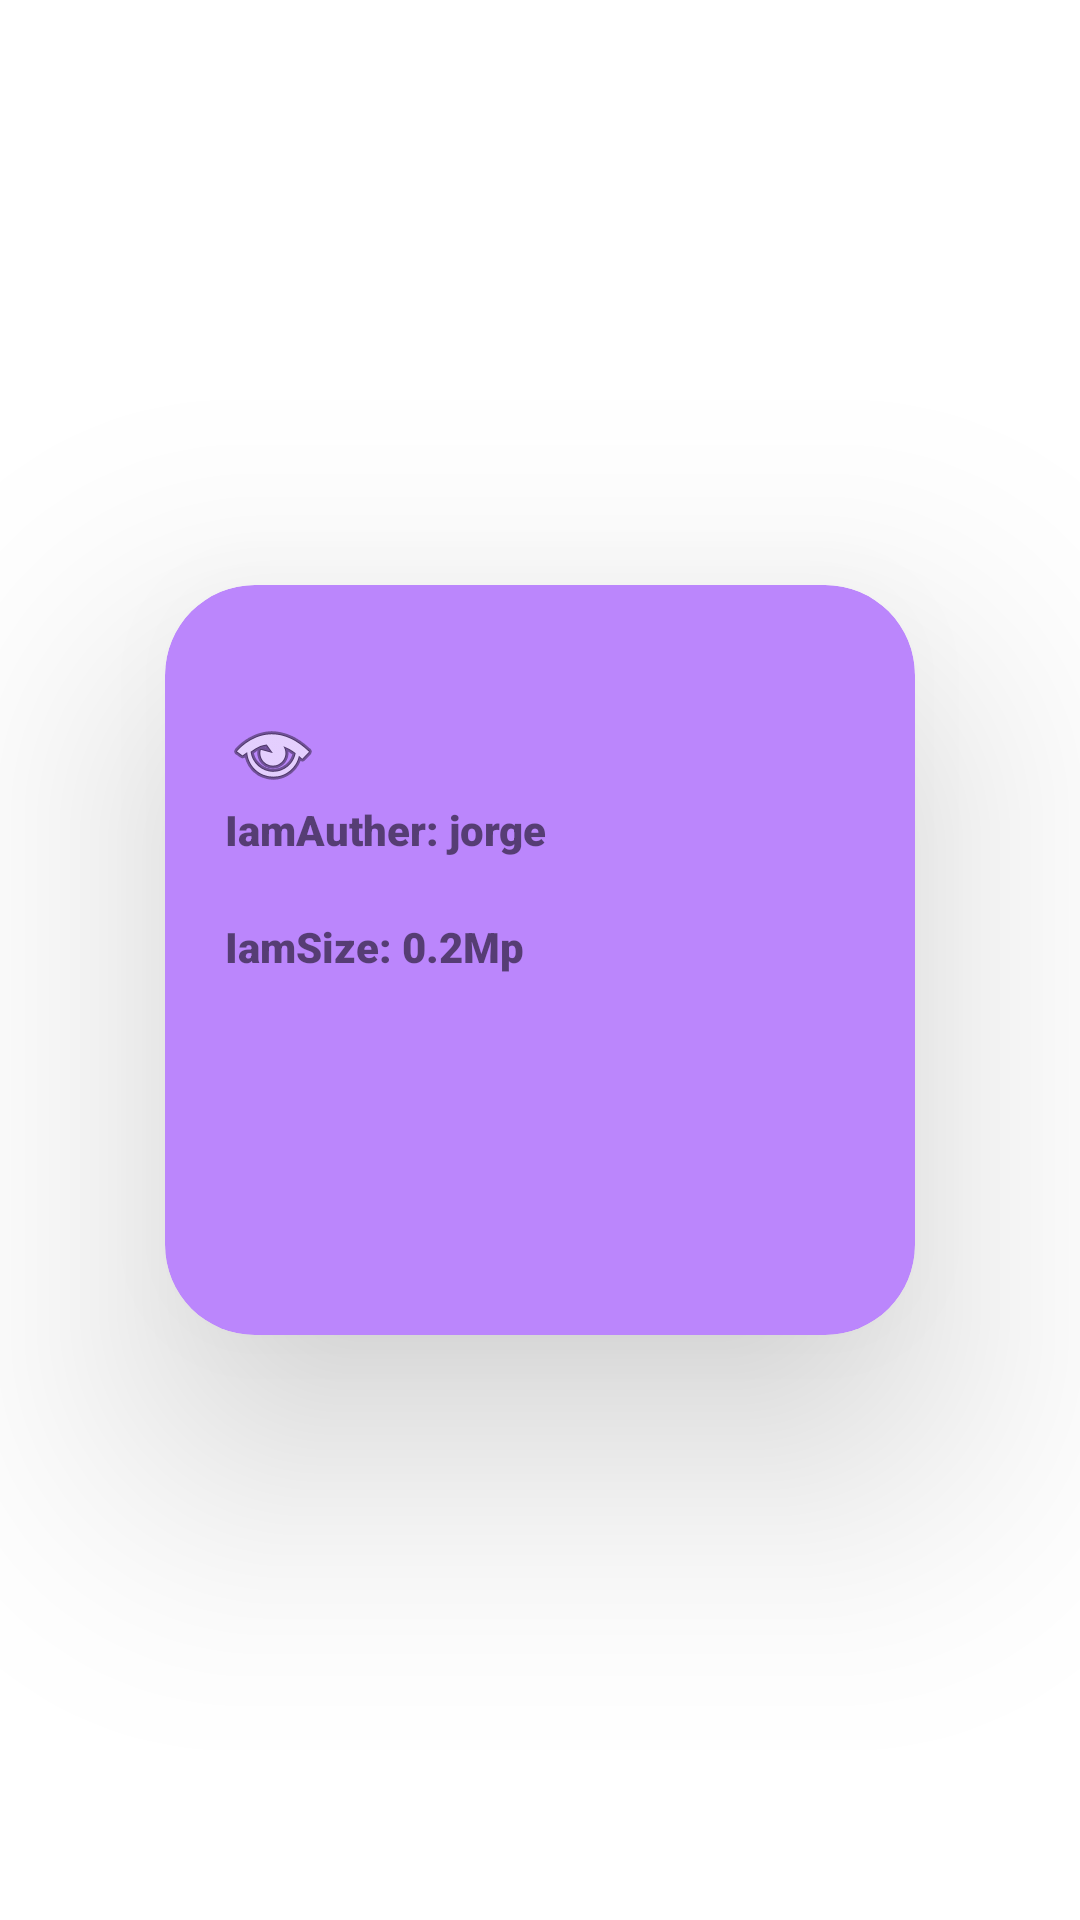

Locate icon controls on the screen. Image size 1080×1920, boxes as region(x1, y1, x2, y2).
view: region(234, 731, 312, 780)
